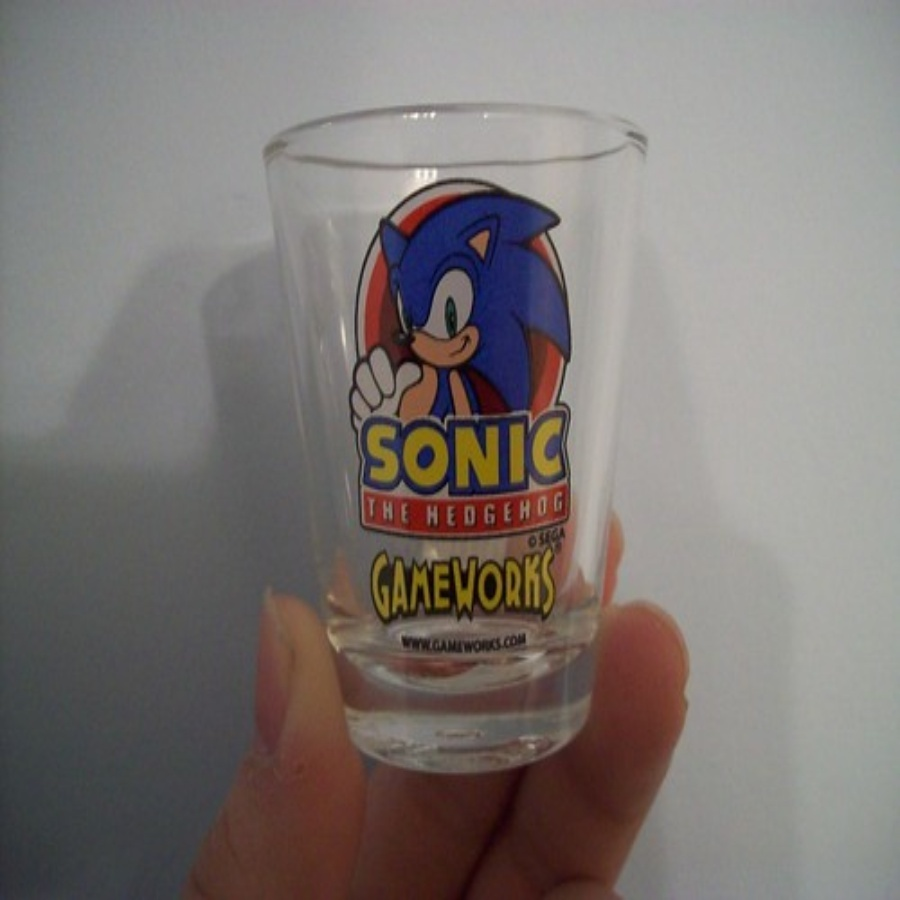whiskey: (287, 113, 648, 781)
